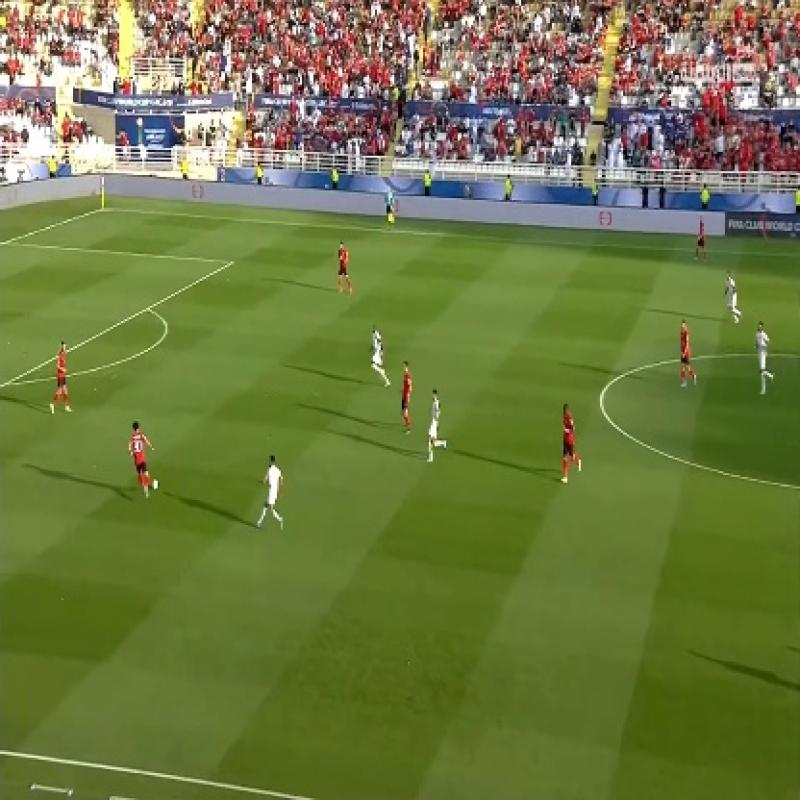1: (96, 202, 108, 210)
10: (142, 300, 152, 314)
11: (2, 374, 12, 388)
2: (2, 234, 16, 250)
9: (226, 254, 234, 270)
c: (582, 378, 622, 420)
